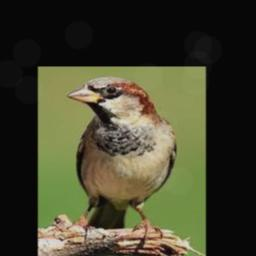Sparrow: (66, 77, 176, 243)
